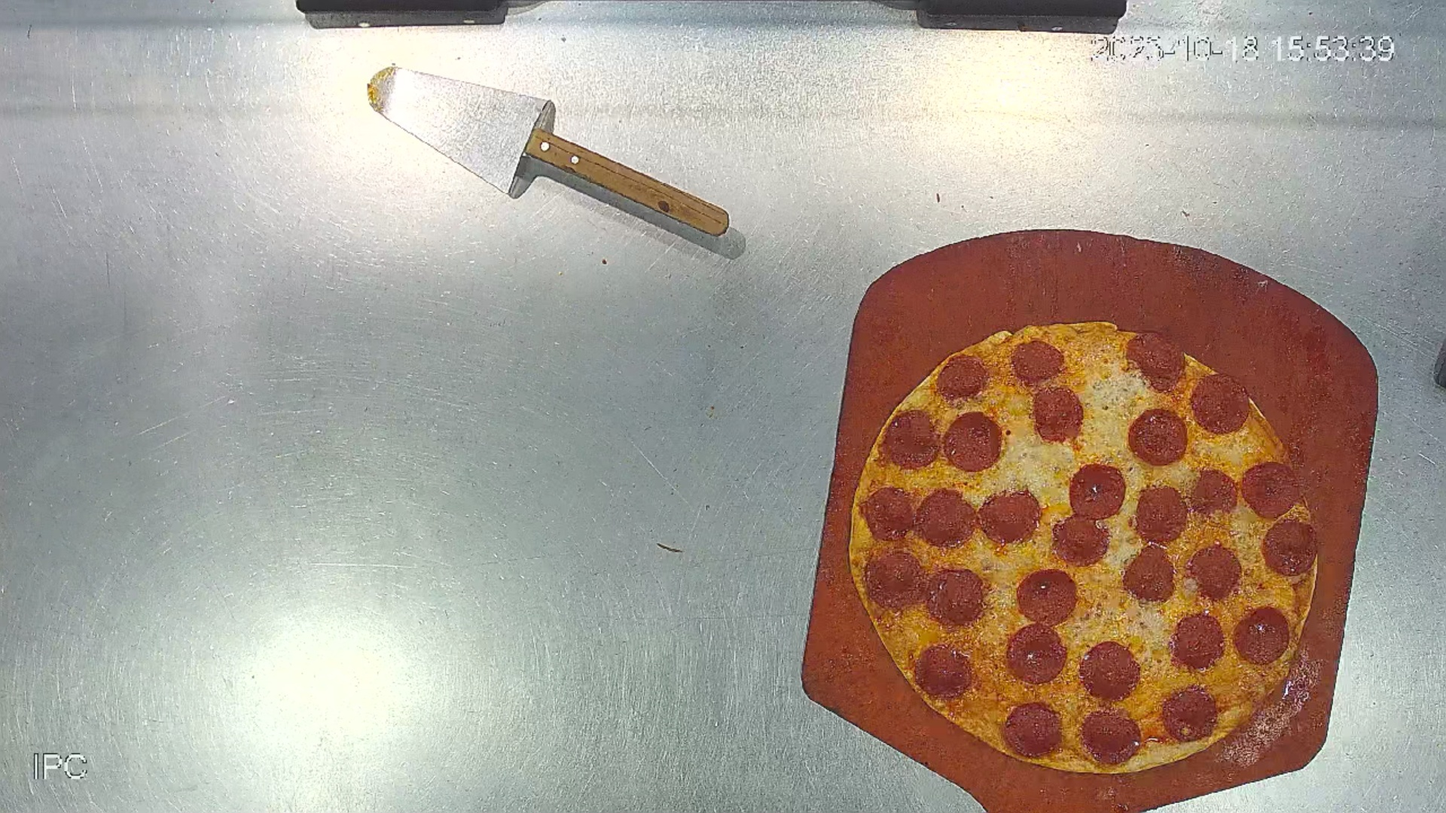pepperoni: (846, 316, 1321, 774)
